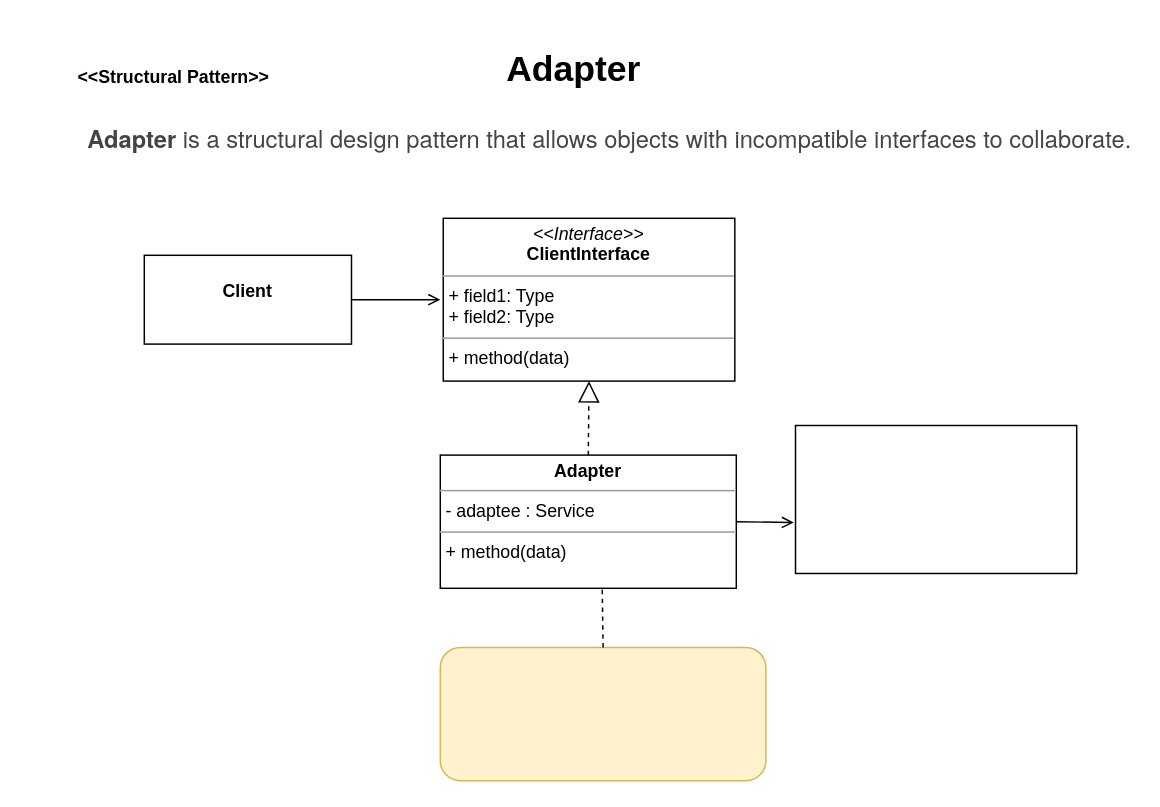
Some shapes in this 1160 by 807 pixel diagram are drawn without their labels. Each missing label, with the box of its shape:
csvData = convertToCsv(xmlData) return adaptee.serviceMethod(csvData): (439, 646, 766, 781)
Service + field1: Type + field2: Type + serviceMethod(specialData): (794, 424, 1077, 574)
